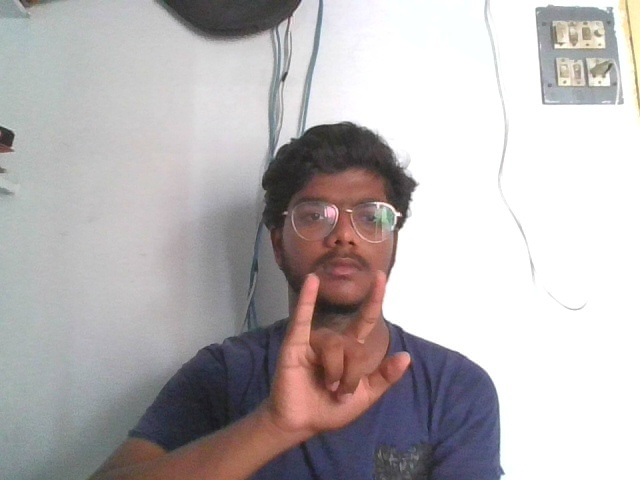IloveYou: (271, 263, 413, 427)
